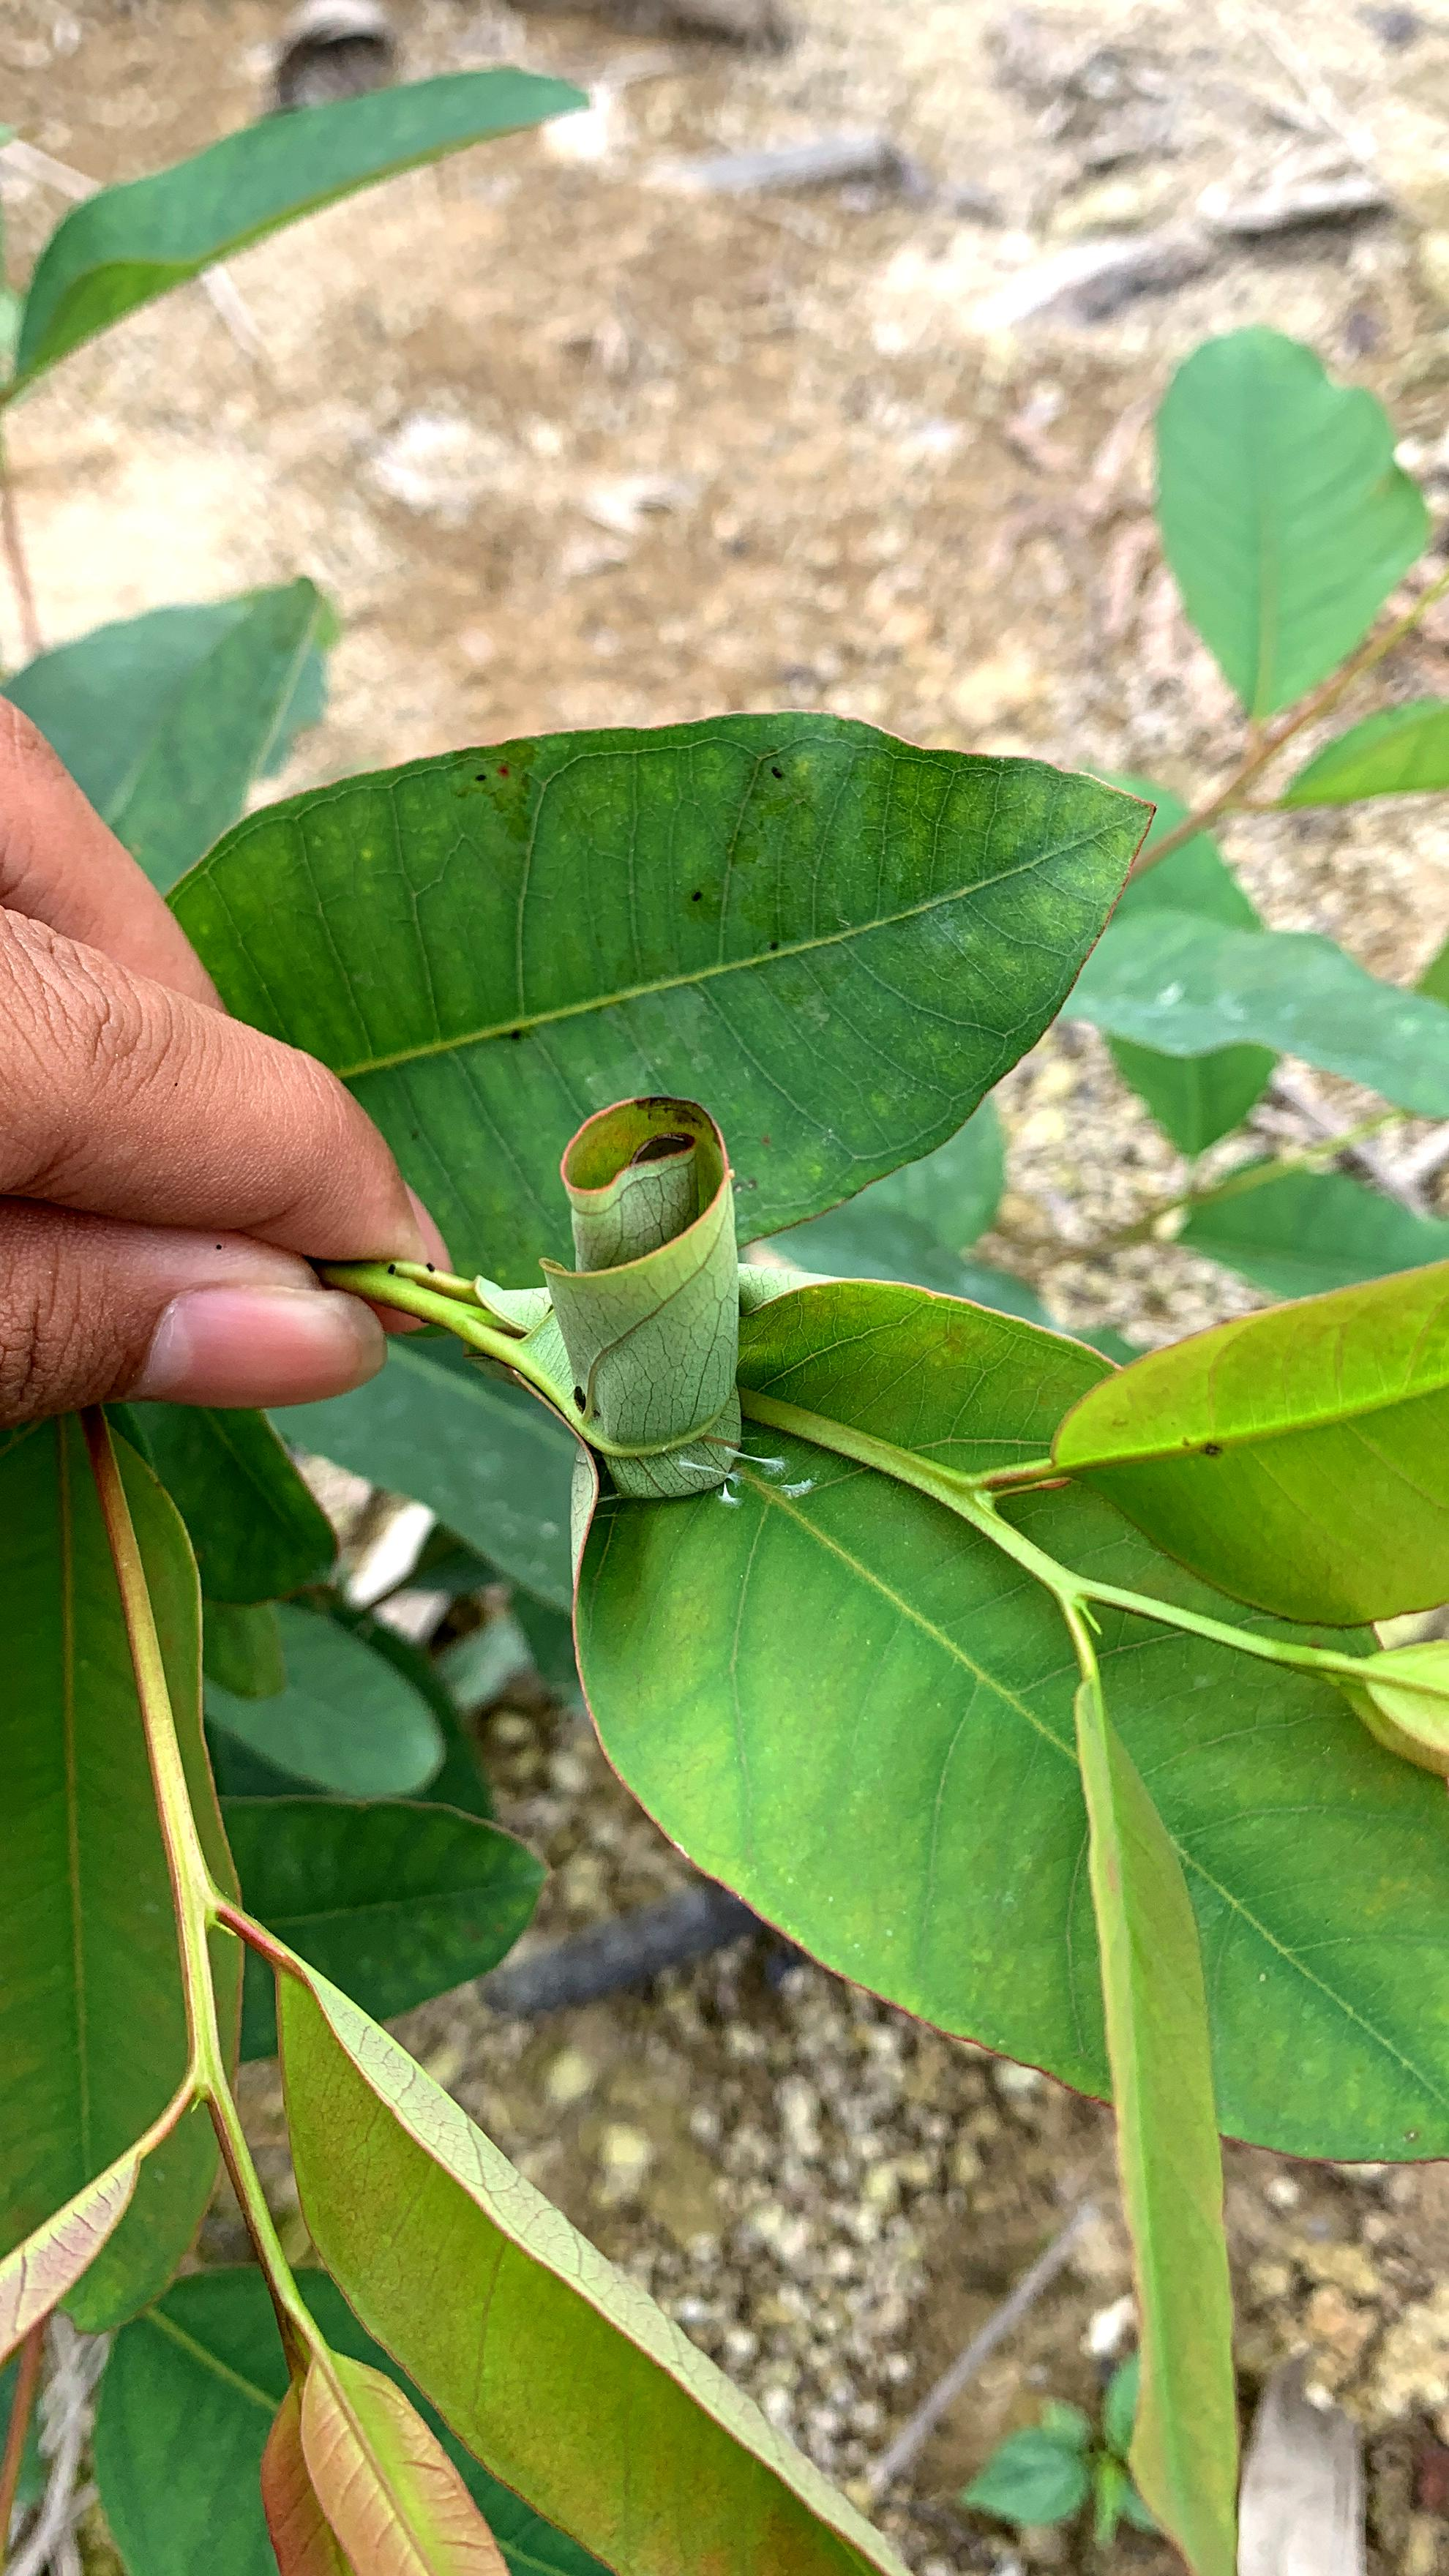Leaf Roller - Leaf: (509, 1068, 782, 1523)
